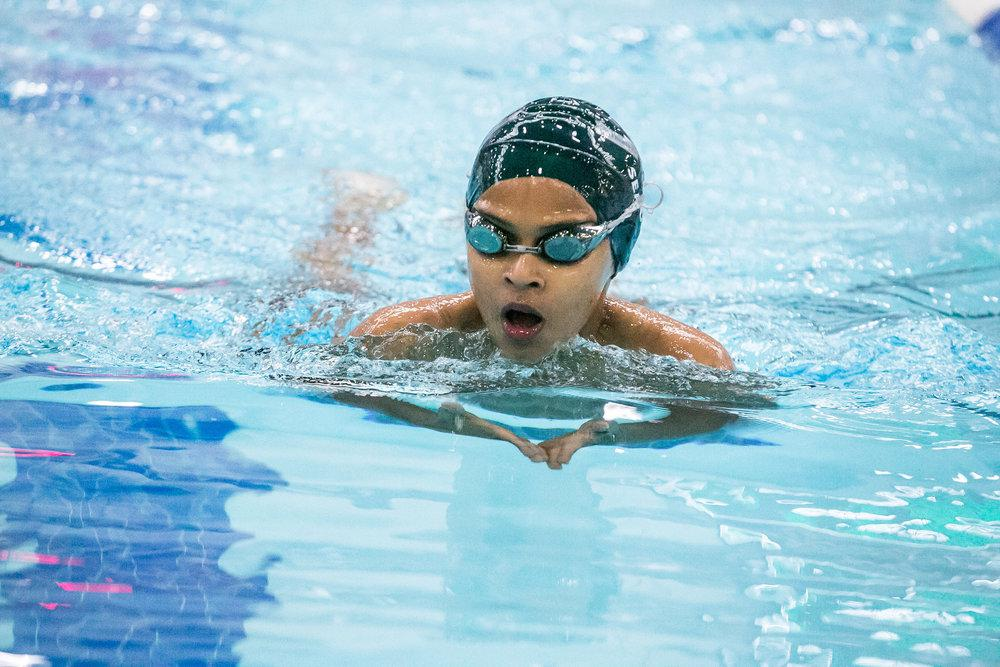human: (319, 102, 761, 470)
